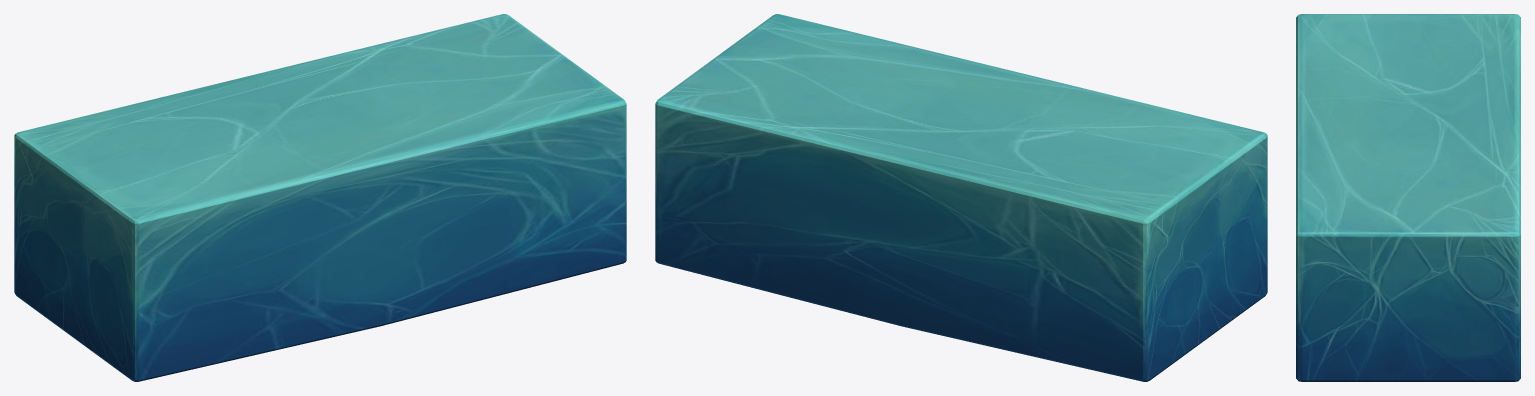
File: Ice_break.fbx
3 renders of one model, left to right at view 1: azimuth 30°, elevation 25°; view 2: azimuth 150°, elevation 25°; view 3: azimuth 270°, elevation 25°, orthographic. The views are drawn at different scales.
Parts seen in each view (by area): view 1: polySurface142, polySurface152, polySurface153, polySurface147, polySurface150, polySurface146, polySurface144; view 2: polySurface146, polySurface153, polySurface142, polySurface150, polySurface152, polySurface147, polySurface144; view 3: polySurface153, polySurface152, polySurface144, polySurface150, polySurface146, polySurface142.
Part boxes in pixels (x1,y1,x2,y2): polySurface142: [14, 127, 238, 328]; polySurface152: [381, 152, 626, 325]; polySurface153: [385, 14, 626, 206]; polySurface147: [14, 241, 381, 381]; polySurface150: [260, 43, 490, 240]; polySurface146: [160, 73, 381, 302]; polySurface144: [38, 98, 310, 265]; polySurface146: [900, 73, 1116, 324]; polySurface153: [655, 14, 911, 207]; polySurface142: [1067, 123, 1267, 334]; polySurface150: [776, 46, 1021, 247]; polySurface152: [655, 159, 900, 325]; polySurface147: [900, 241, 1267, 381]; polySurface144: [1002, 90, 1225, 264]; polySurface153: [1296, 172, 1520, 286]; polySurface152: [1296, 279, 1520, 381]; polySurface144: [1296, 23, 1520, 93]; polySurface150: [1296, 123, 1520, 180]; polySurface146: [1296, 79, 1520, 125]; polySurface142: [1296, 14, 1520, 35].
Size of the model in its own units: 13.04 by 4.18 by 5.6.
